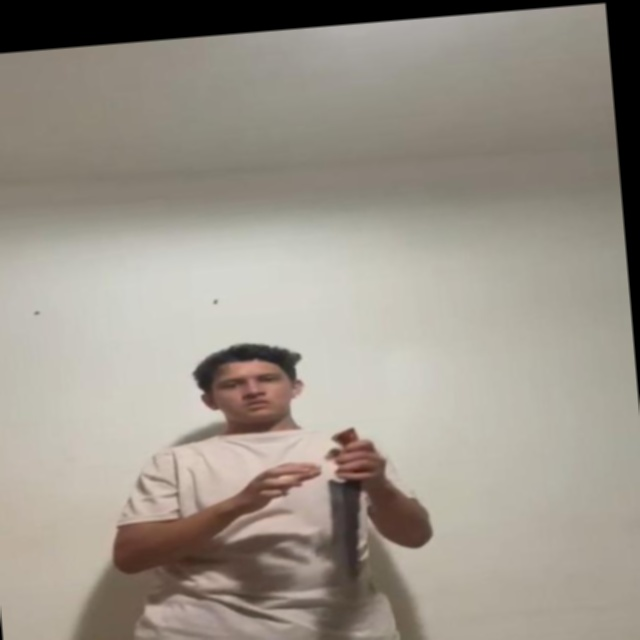Sharp-Object: (329, 479, 367, 582)
